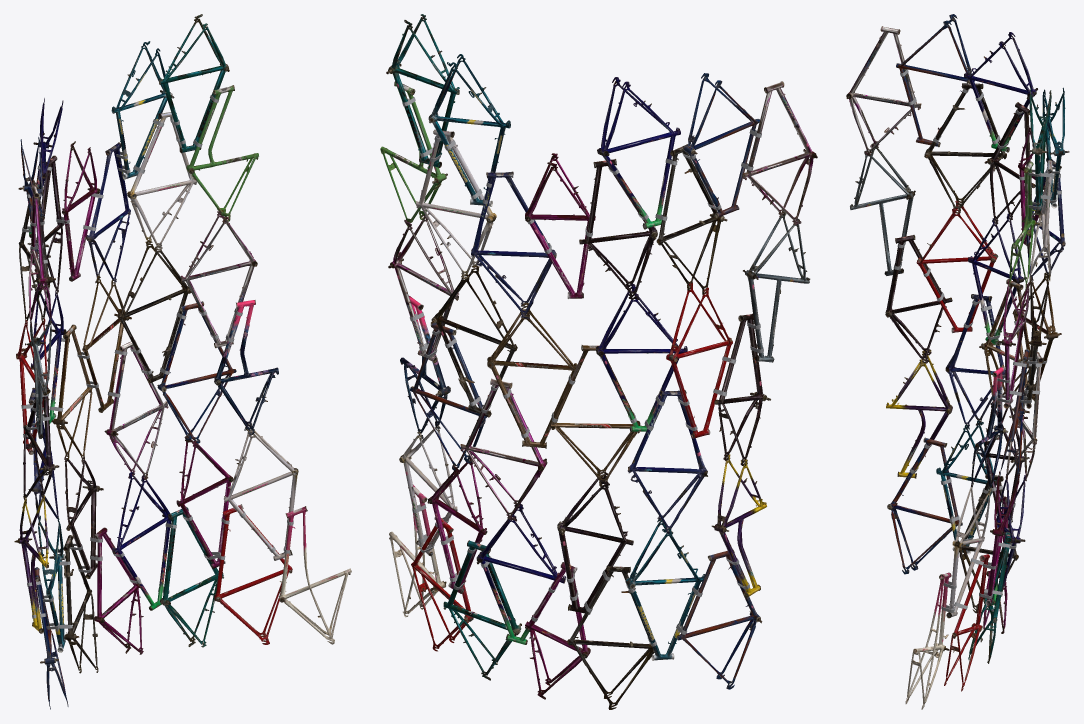
Rendered from FrameStructure_v7_10_1024.glb.
The picture shows the model from 3 angles, left to right: view 1: azimuth 30°, elevation 25°; view 2: azimuth 150°, elevation 25°; view 3: azimuth 270°, elevation 25°; orthographic projection. The views are drawn at different scales.
Bounding box in the file's own units: 2.86 × 4.69 × 1.6.
18 materials, 17 textured.
